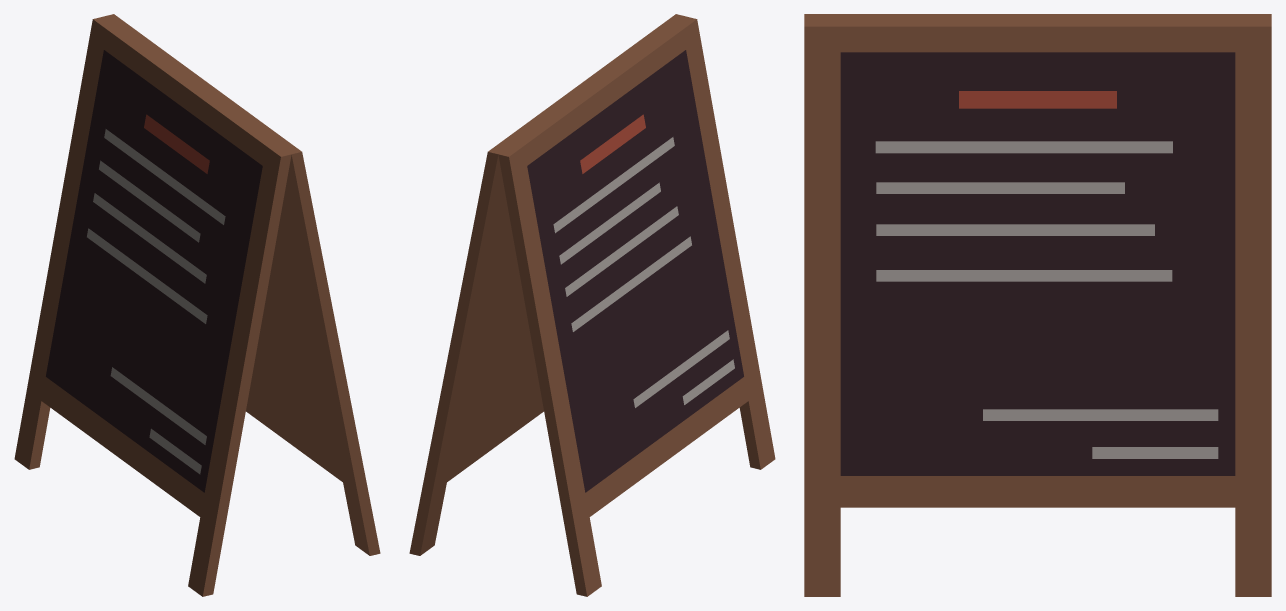
Rendered from AdBoardCafe.fbx.
3 renders of one model, left to right at view 1: azimuth 30°, elevation 25°; view 2: azimuth 150°, elevation 25°; view 3: azimuth 270°, elevation 25°, orthographic. The views are drawn at different scales.
Parts seen in each view (by area): view 1: AdBoardCafe; view 2: AdBoardCafe; view 3: AdBoardCafe.
Part boxes in pixels (<box>): AdBoardCafe: <box>14,14,380,596</box>; AdBoardCafe: <box>409,14,775,596</box>; AdBoardCafe: <box>804,14,1271,596</box>.
Bounding box in the file's own units: 0.525 × 1.19 × 0.9625.
